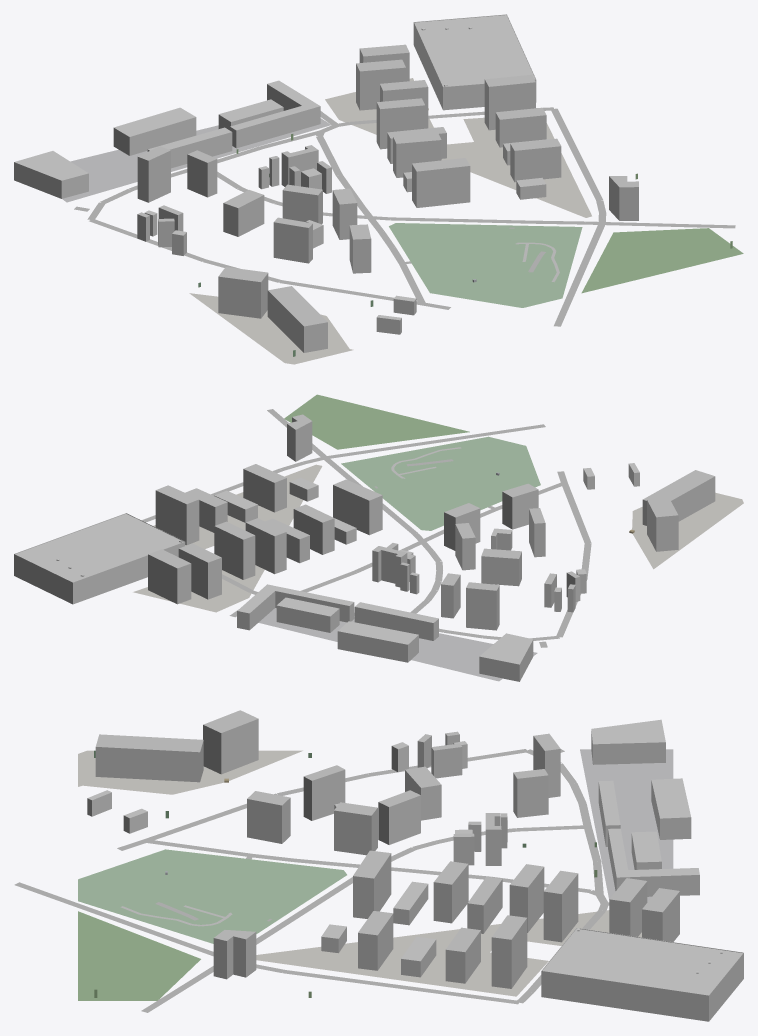
3 renders of one model, top to bottom at view 1: azimuth 30°, elevation 25°; view 2: azimuth 150°, elevation 25°; view 3: azimuth 270°, elevation 25°, orthographic. The views are drawn at different scales.
Bounding box in the file's own units: 564 × 47.28 × 613.
